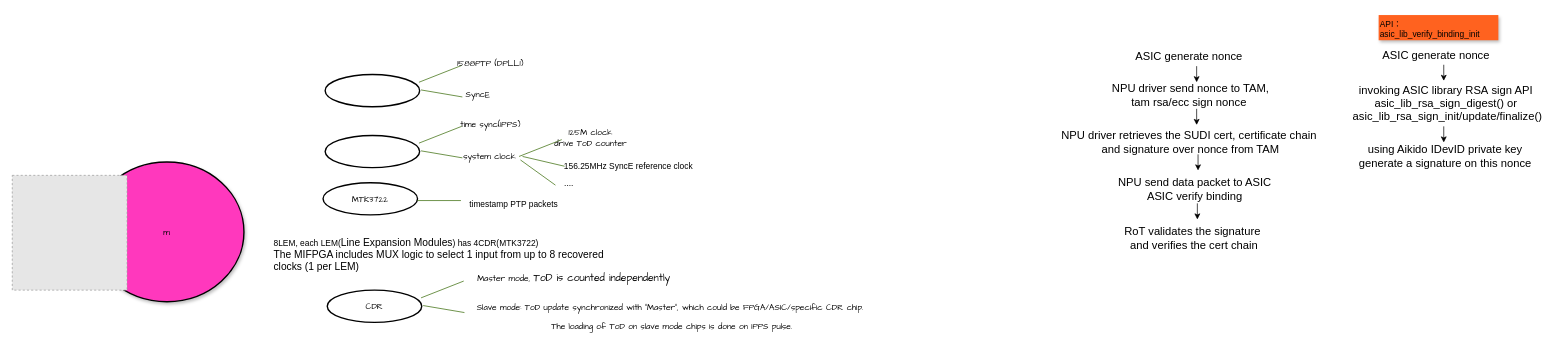
This 1565x351 diagram has some shape labels left out. Grey dashed boxes stand in for pictures. Each missing label, with the centre of its shape:
"ZL30734" goes at (x=372, y=151).
"ZL30734 2DPLLS" goes at (x=372, y=90).
